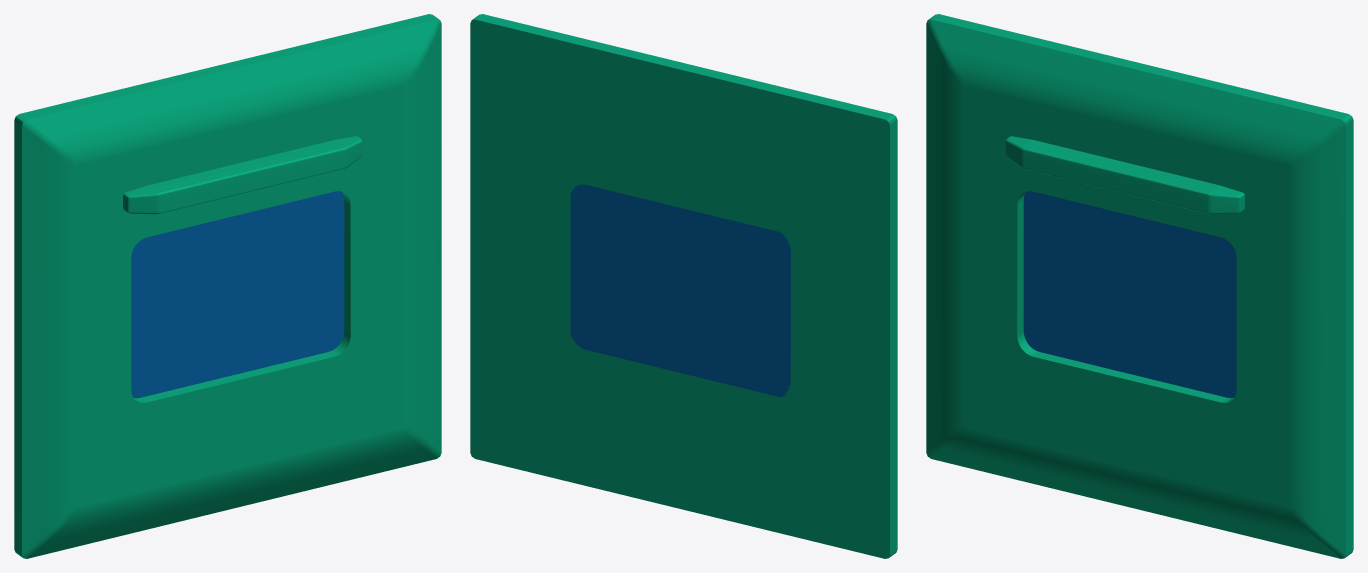
File: ovenDoor.fbx
3 views of the same model, side by side, from view 1: azimuth 30°, elevation 25°; view 2: azimuth 150°, elevation 25°; view 3: azimuth 330°, elevation 25° (orthographic).
Parts seen in each view (by area): view 1: oven_door_low, window_low, handle_low; view 2: oven_door_low, window_low; view 3: oven_door_low, window_low, handle_low.
Part boxes in pixels (<box>): oven_door_low: <box>14,14,441,558</box>; window_low: <box>131,191,344,398</box>; handle_low: <box>123,136,362,214</box>; oven_door_low: <box>470,14,897,558</box>; window_low: <box>570,184,790,397</box>; oven_door_low: <box>926,14,1353,558</box>; window_low: <box>1023,191,1236,398</box>; handle_low: <box>1005,136,1244,214</box>.
Size of the model in its own units: 10.15 by 10.15 by 1.18.
